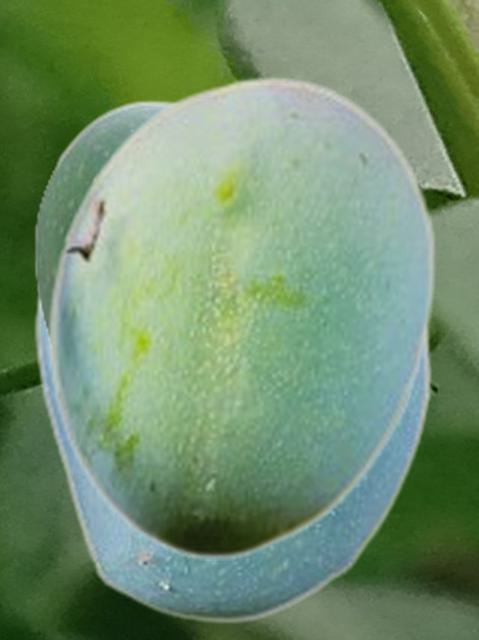green_mango: (46, 75, 436, 559), (32, 278, 432, 624), (33, 99, 172, 347)
